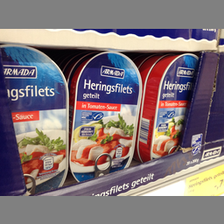fish: (1, 43, 69, 193), (69, 52, 142, 181), (140, 54, 198, 157)
